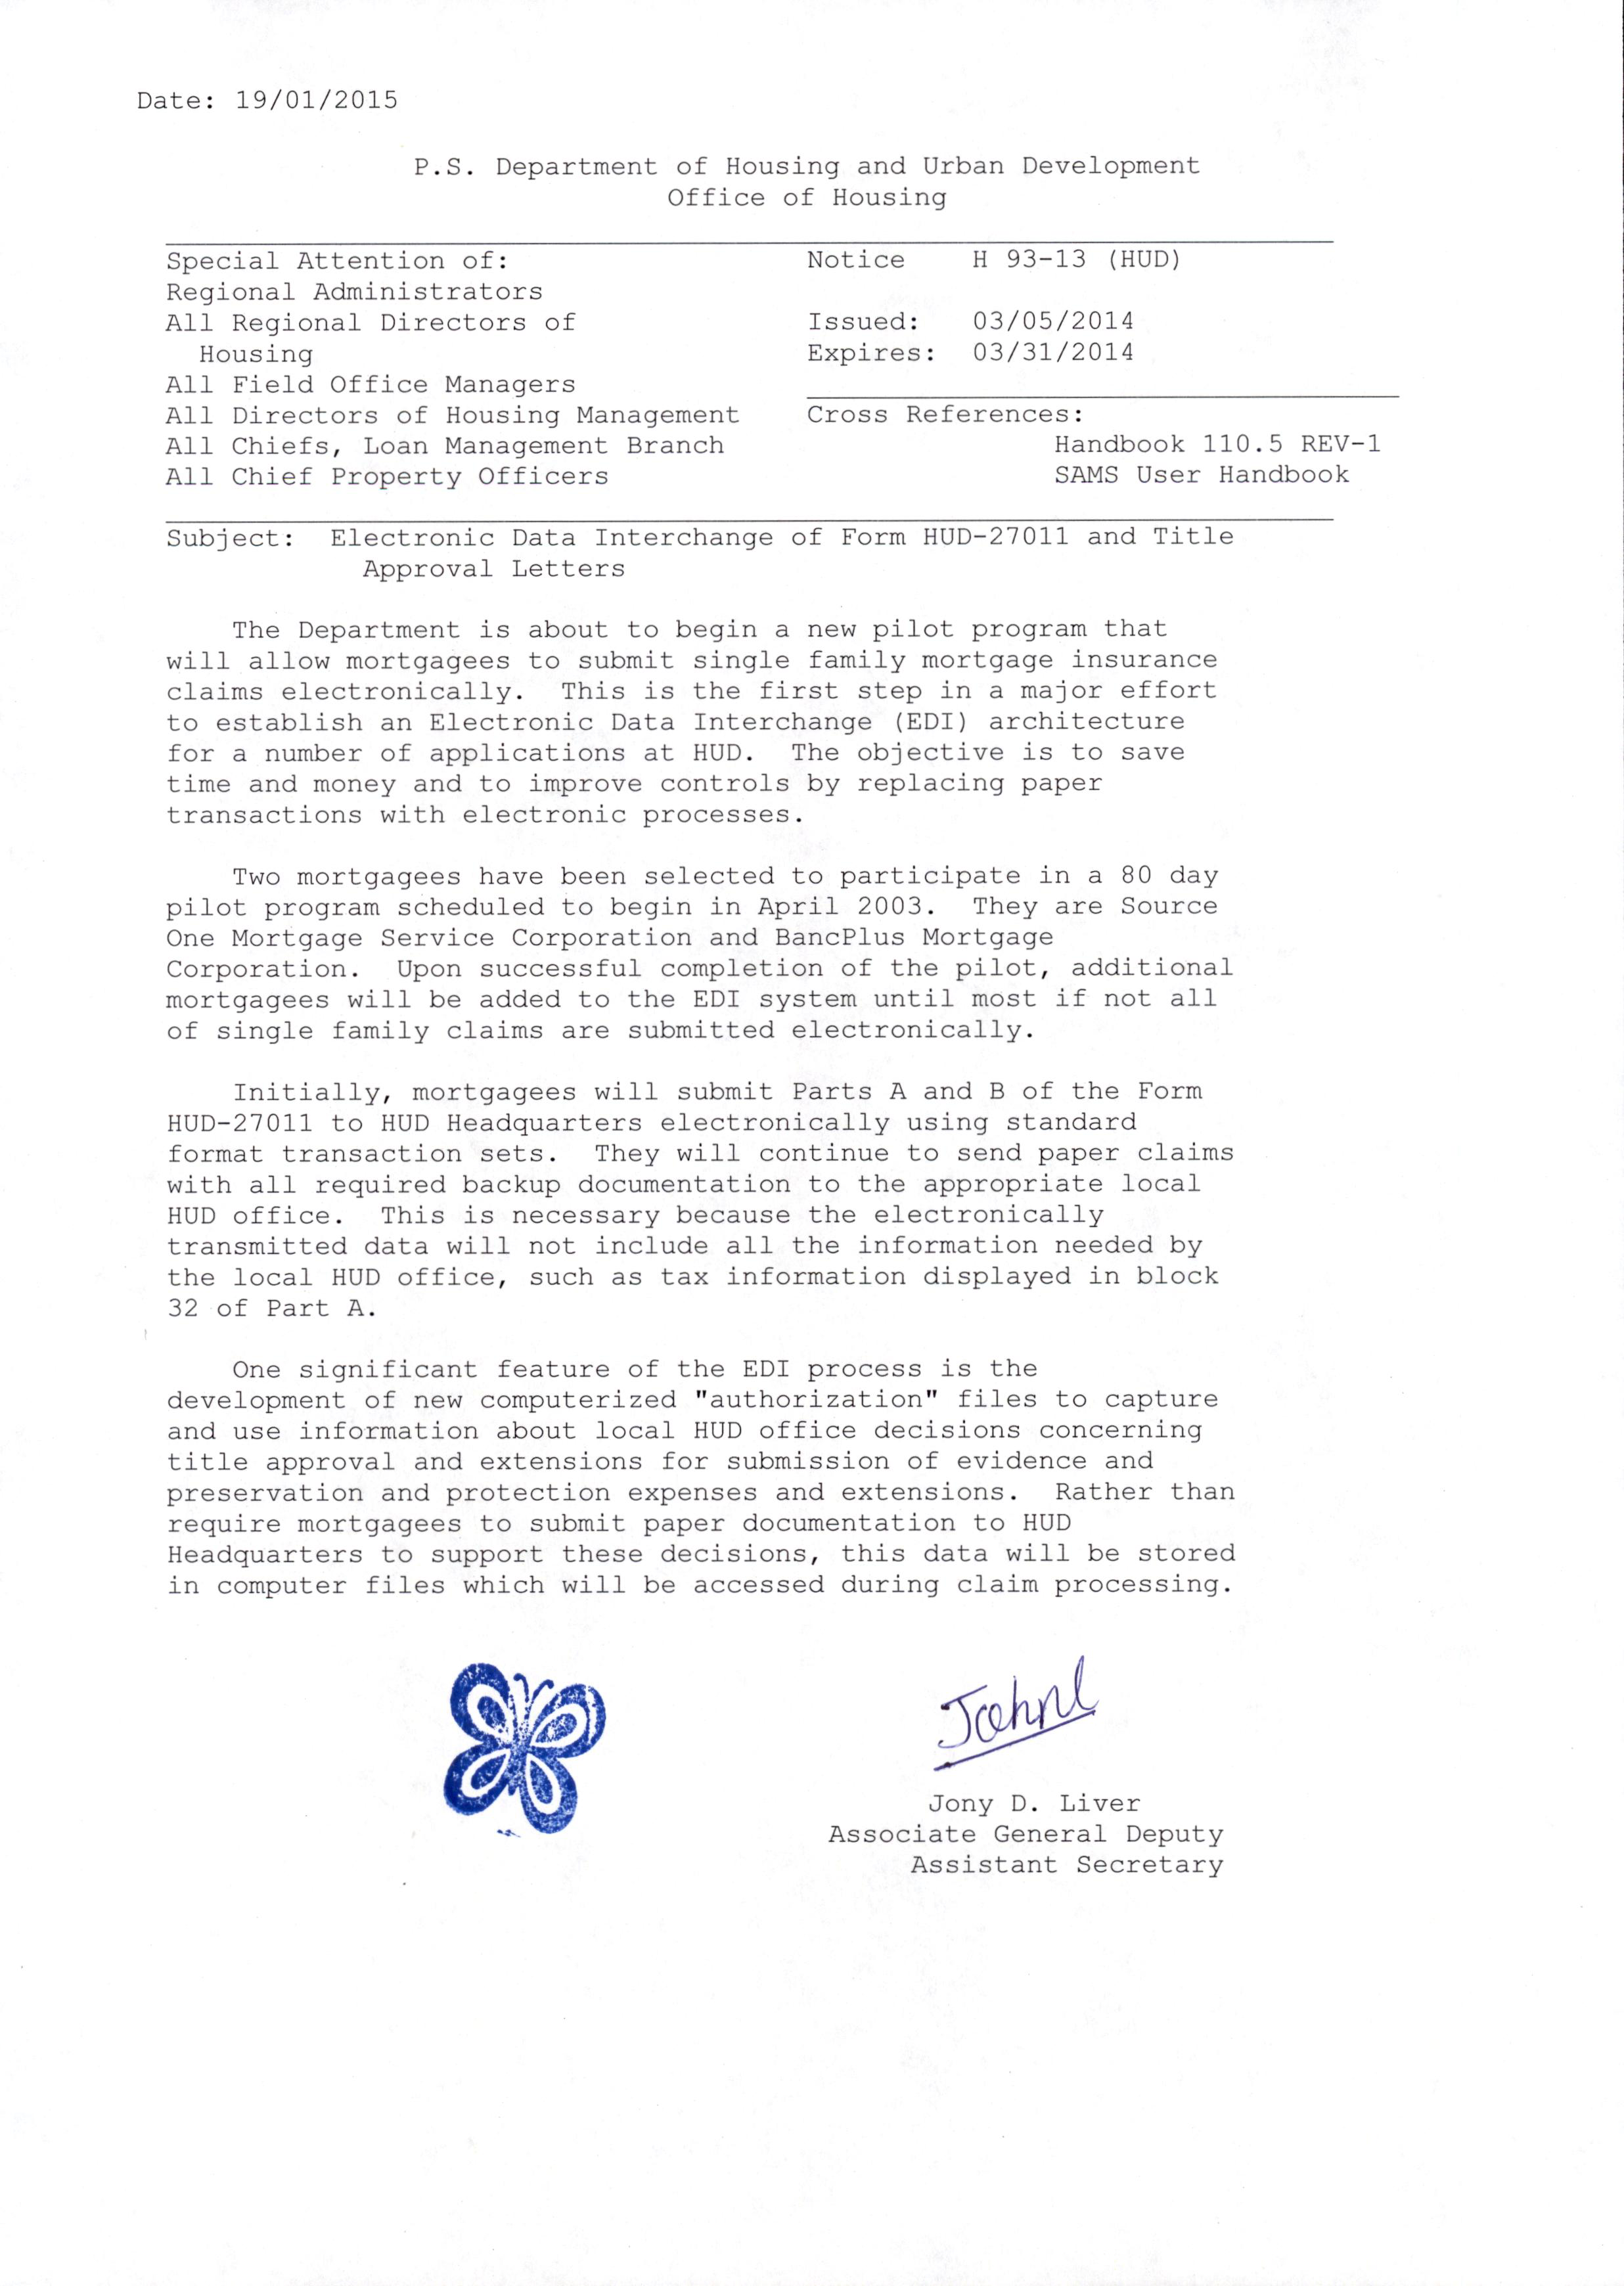Signature: (919, 1646, 1114, 1778)
